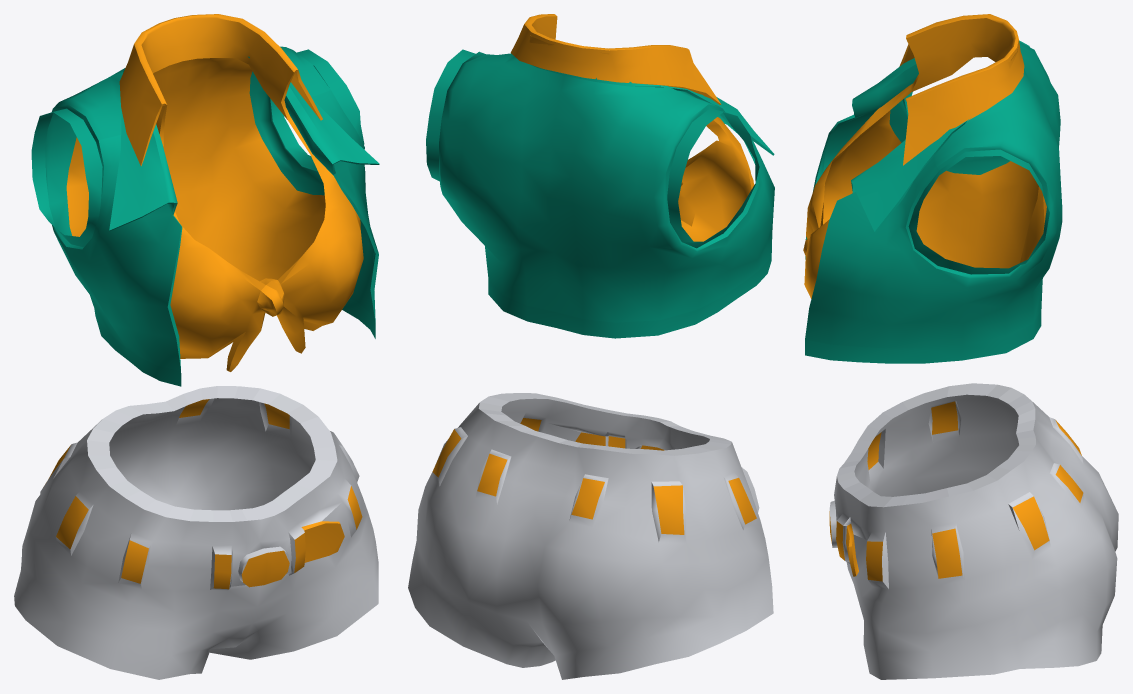
File: clothes4.fbx
The picture shows the model from 3 angles, left to right: view 1: azimuth 30°, elevation 25°; view 2: azimuth 150°, elevation 25°; view 3: azimuth 270°, elevation 25°; orthographic projection.
Parts seen in each view (by area): view 1: clothes4; view 2: clothes4; view 3: clothes4.
Part boxes in pixels (<box>): clothes4: <box>14,14,379,679</box>; clothes4: <box>408,14,774,679</box>; clothes4: <box>803,14,1118,679</box>.
Size of the model in its own units: 42.46 by 76.55 by 35.21.
1 material, 1 textured.
